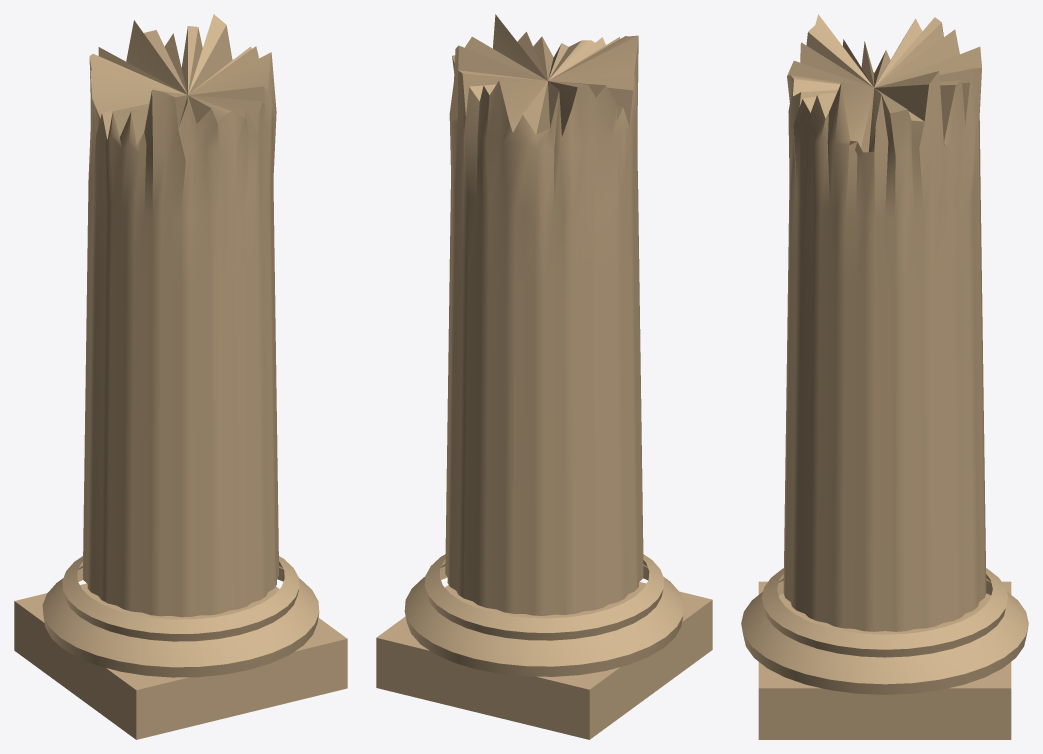
File: column_hall_broken.glb
3 renders of one model, left to right at view 1: azimuth 30°, elevation 25°; view 2: azimuth 150°, elevation 25°; view 3: azimuth 270°, elevation 25°, orthographic. The views are drawn at different scales.
Visible parts, largest first — view 1: column_hall_broken; view 2: column_hall_broken; view 3: column_hall_broken.
Part boxes in pixels (bbox=[...]): column_hall_broken: bbox=[14, 14, 347, 739]; column_hall_broken: bbox=[376, 14, 712, 739]; column_hall_broken: bbox=[741, 14, 1028, 739].
Size of the model in its own units: 1.82 by 4.5 by 1.82.
